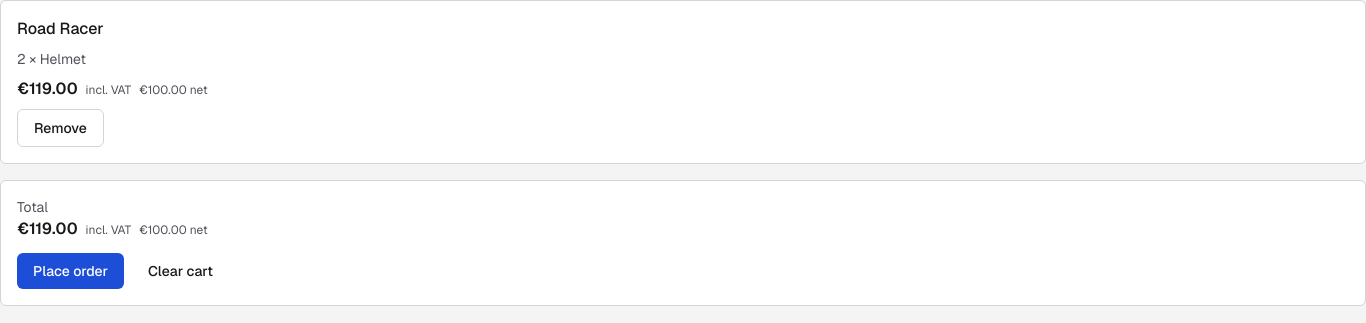
Test: checkout result › says the cart is empty when the server says so
What coordinates should you click on to do the following:
click the button "Place order"
I would click on:
 (70, 271)
Its box is [17,253,124,289].
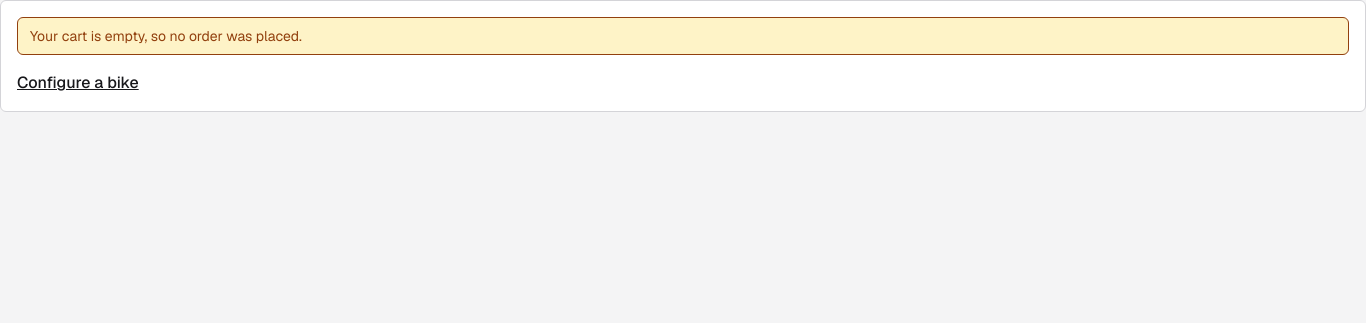
Result: the text "Your cart is empty, so no order was placed." is shown at [17,17,1349,55]
